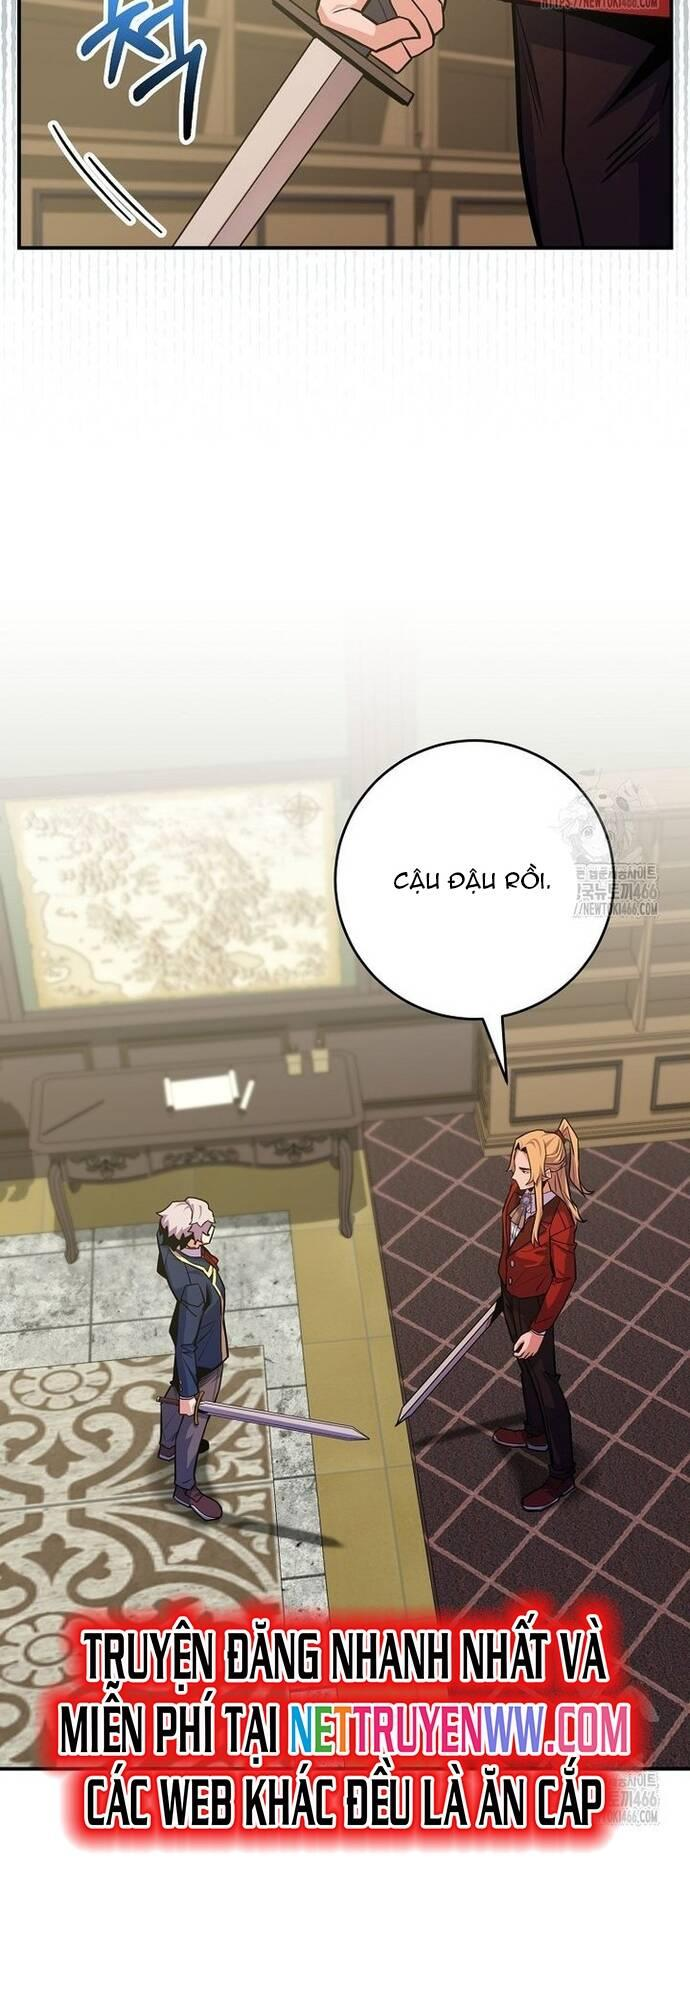quangcao: (52, 1610, 643, 1844)
